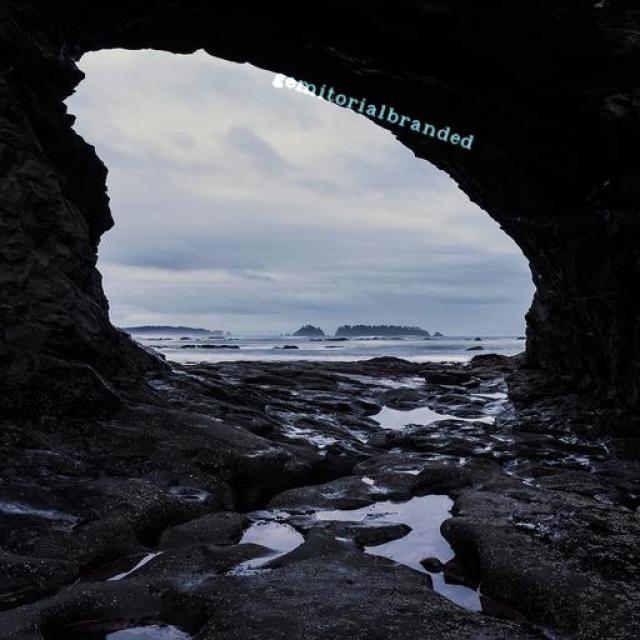watermark: (267, 65, 485, 152)
